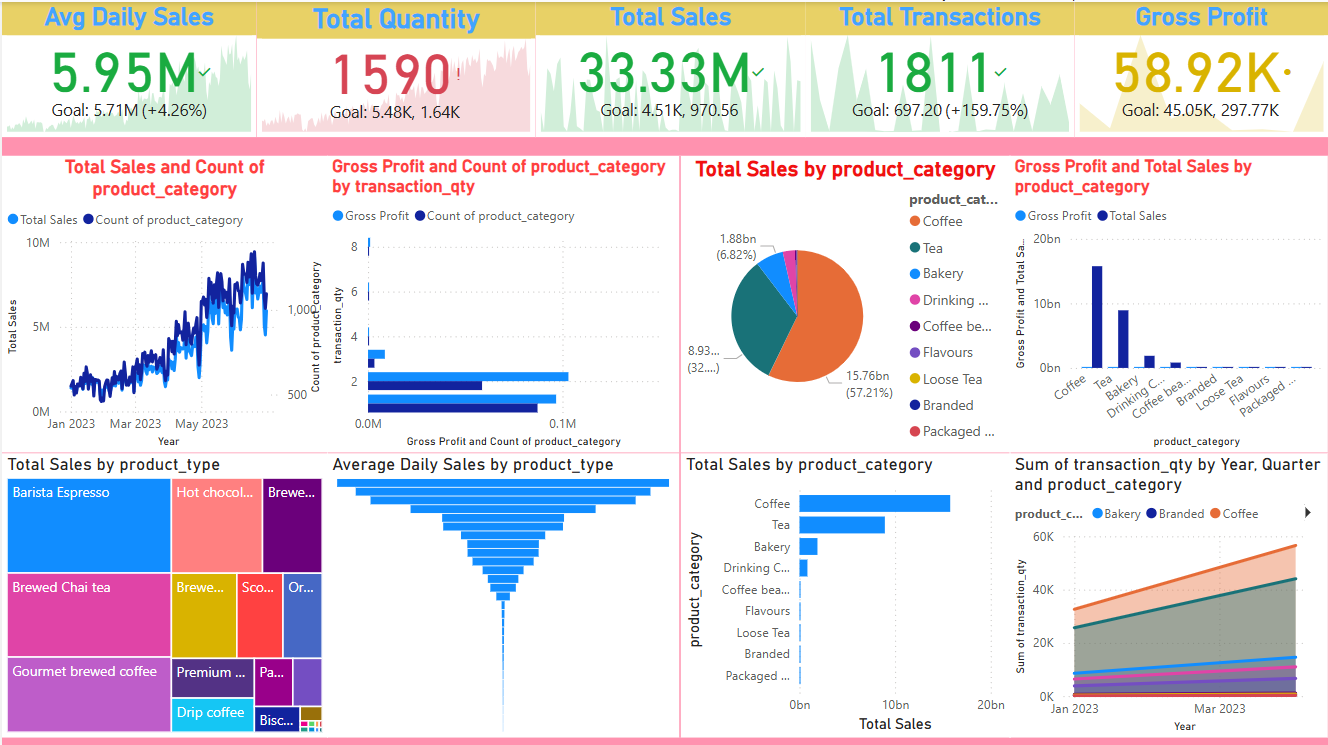

This screenshot's page, from the dashboard's own definition file:
{"tool":"powerbi","page":{"name":"Page 1","canvas":[1280,720],"ordinal":0},"visuals":[{"type":"kpi","title":"Avg  Daily Sales","fields":{"Indicator":["Transactions.Average Daily Sales"],"TrendLine":["Transactions.transaction_date"],"Goal":["Transactions.Sales Target"]},"box":[0,0,245.6,130.4],"z":0},{"type":"kpi","title":" Total Quantity","fields":{"Indicator":["Transactions.Total Quantity"],"TrendLine":["Transactions.transaction_date"],"Goal":["Transactions.Monthly Sales","Transactions.Gross Profit"]},"box":[245.6,0,269,130.4],"z":1000},{"type":"kpi","title":"Total Sales","fields":{"Indicator":["Transactions.Total Sales"],"TrendLine":["Transactions.product_detail"],"Goal":["Sum(Transactions.transaction_qty)","Transactions.Sales Target"]},"box":[514.6,0,260.7,130.4],"z":2000},{"type":"kpi","title":" Total Transactions","fields":{"Indicator":["Transactions.Total Transactions"],"TrendLine":["Transactions.product_type"],"Goal":["Transactions.Gross Profit"]},"box":[775.3,0,259.3,130.4],"z":3000},{"type":"kpi","title":"Gross Profit","fields":{"Indicator":["Transactions.Gross Profit"],"TrendLine":["Transactions.product_category"],"Goal":["Transactions.Profit Target","Transactions.Average Daily Sales"]},"box":[1034.7,0,245.6,130.4],"z":4000},{"type":"lineChart","title":"Total Sales and Count of product_category ","fields":{"Y":["Transactions.Total Sales"],"Y2":["CountNonNull(Transactions.product_category)"],"Category":["Transactions.transaction_date.Variation.Date Hierarchy.Year","Transactions.transaction_date.Variation.Date Hierarchy.Quarter","Transactions.transaction_date.Variation.Date Hierarchy.Month","Transactions.transaction_date.Variation.Date Hierarchy.Day"]},"box":[0,148.2,314.2,286.8],"z":5000},{"type":"clusteredBarChart","fields":{"Y":["Transactions.Gross Profit","CountNonNull(Transactions.product_category)"],"Category":["Transactions.transaction_qty"]},"box":[314.2,148.2,340.3,286.8],"z":6000},{"type":"pieChart","fields":{"Category":["Transactions.product_category"],"Y":["Transactions.Total Sales"]},"box":[654.5,148.2,318.4,286.8],"z":7000},{"type":"clusteredColumnChart","fields":{"Category":["Transactions.product_category"],"Y":["Transactions.Gross Profit","Transactions.Total Sales"]},"box":[972.9,148.2,307.4,286.8],"z":8000},{"type":"treemap","fields":{"Group":["Transactions.product_type"],"Values":["Transactions.Total Sales"]},"box":[0,435,314.2,274.4],"z":9000},{"type":"funnel","fields":{"Y":["Transactions.Average Daily Sales"],"Category":["Transactions.product_type"]},"box":[314.2,435,340.3,274.4],"z":10000},{"type":"clusteredBarChart","fields":{"Y":["Transactions.Total Sales"],"Category":["Transactions.product_category","Transactions.product_type"]},"box":[654.5,435,318.4,274.4],"z":11000},{"type":"areaChart","fields":{"Category":["Transactions.transaction_date.Variation.Date Hierarchy.Year","Transactions.transaction_date.Variation.Date Hierarchy.Quarter","Transactions.transaction_date.Variation.Date Hierarchy.Month","Transactions.transaction_date.Variation.Date Hierarchy.Day"],"Y":["Sum(Transactions.transaction_qty)"],"Series":["Transactions.product_category"]},"box":[972.9,435,307.4,274.4],"z":11001}]}

Visuals, with their boxes in screenshot pixels (x1, y1, x2, y2), scaled from the page's 1280x720 canvas onto the 1328x745 screenshot:
"Avg  Daily Sales" kpi: <box>0,0,255,135</box>
" Total Quantity" kpi: <box>255,0,534,135</box>
"Total Sales" kpi: <box>534,0,804,135</box>
" Total Transactions" kpi: <box>804,0,1073,135</box>
"Gross Profit" kpi: <box>1074,0,1327,135</box>
"Total Sales and Count of product_category " lineChart: <box>0,153,326,450</box>
clusteredBarChart - Transactions.Gross Profit x CountNonNull(Transactions.product_category): <box>326,153,679,450</box>
pieChart - Transactions.product_category x Transactions.Total Sales: <box>679,153,1009,450</box>
clusteredColumnChart - Transactions.product_category x Transactions.Gross Profit: <box>1009,153,1327,450</box>
treemap - Transactions.product_type x Transactions.Total Sales: <box>0,450,326,734</box>
funnel - Transactions.Average Daily Sales x Transactions.product_type: <box>326,450,679,734</box>
clusteredBarChart - Transactions.Total Sales x Transactions.product_category: <box>679,450,1009,734</box>
areaChart - Transactions.transaction_date.Variation.Date Hierarchy.Year x Transactions.transaction_date.Variation.Date Hierarchy.Quarter: <box>1009,450,1327,734</box>
